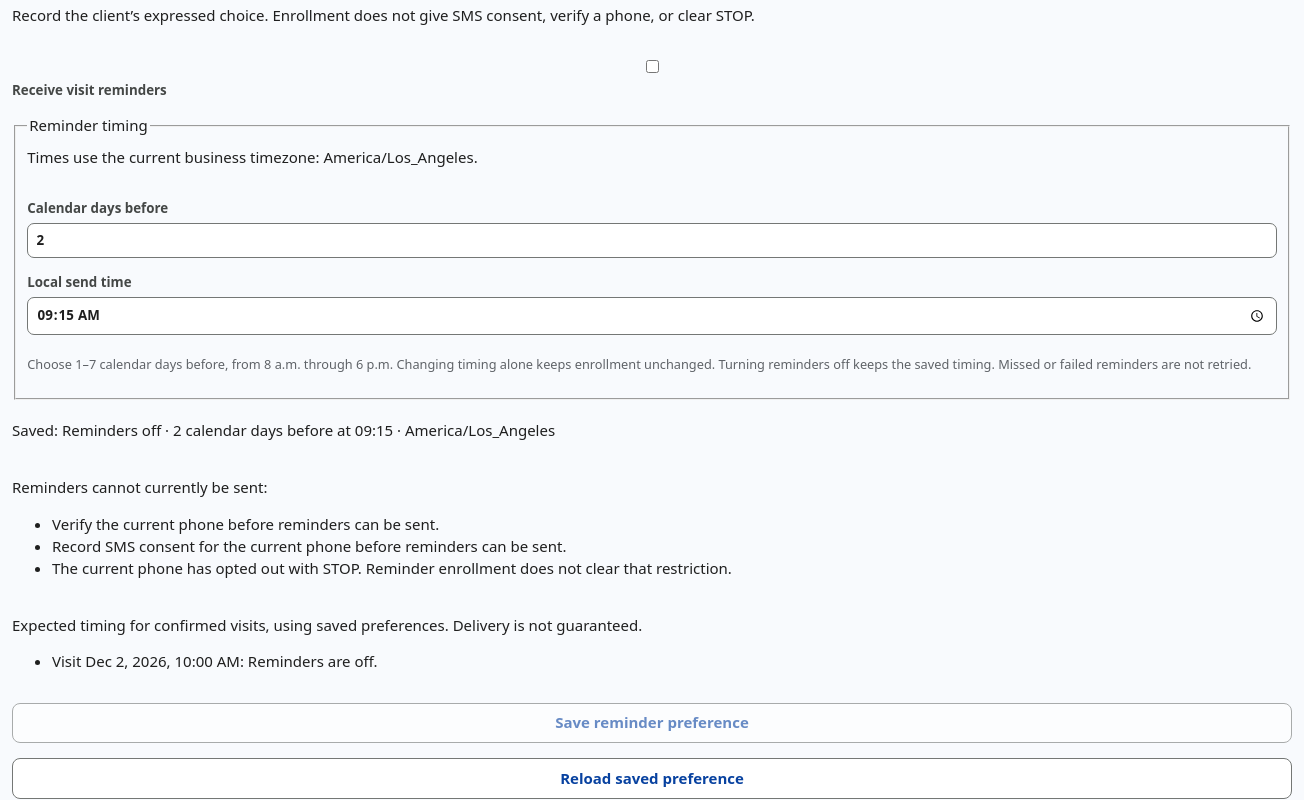
Scenario: keeps enrollment controls available before business timezone setup
Click the button "Reload saved preference".
click(652, 778)  # box [12,758,1292,799]
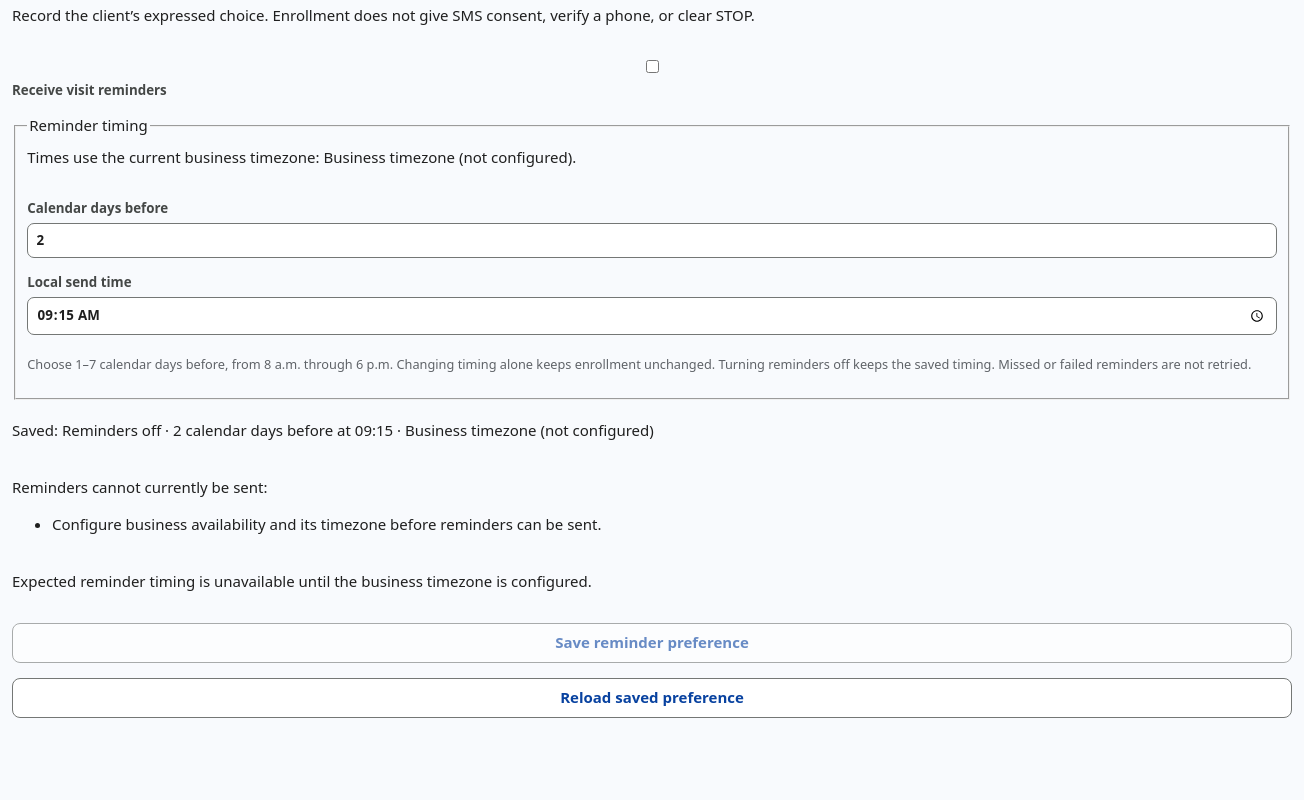
Expected: the checkbox labelled "Receive visit reminders" is enabled, [16,60,1289,73]
Now the text "Business timezone (not configured)" is shown, box [324,147,572,167]
Now the text "Configure business availability" is shown, box [52,514,602,534]
